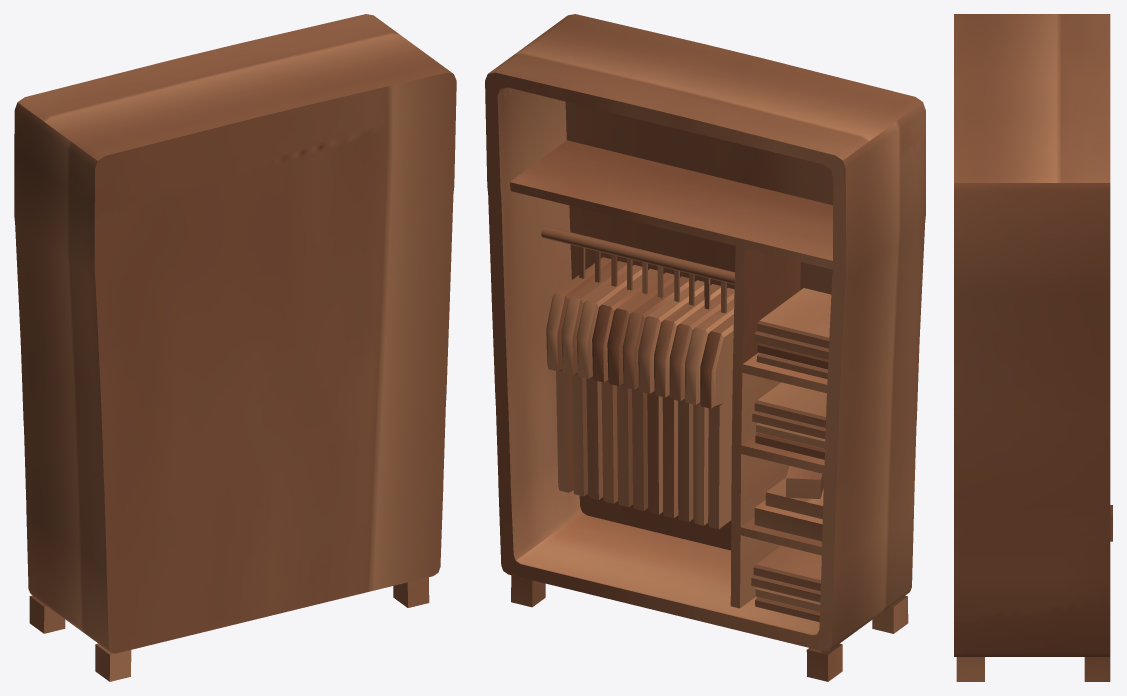
Rendered from WardrobeInteraction.fbx.
The picture shows the model from 3 angles, left to right: view 1: azimuth 30°, elevation 25°; view 2: azimuth 150°, elevation 25°; view 3: azimuth 270°, elevation 25°; orthographic projection. The views are drawn at different scales.
Parts seen in each view (by area): view 1: 2; view 2: 2; view 3: 2.
Boxes of the visible parts, x1,y1,x2,y2 form: 2: (14, 14, 456, 681); 2: (485, 14, 925, 681); 2: (954, 14, 1112, 681).
Size of the model in its own units: 112 by 157 by 43.84.
